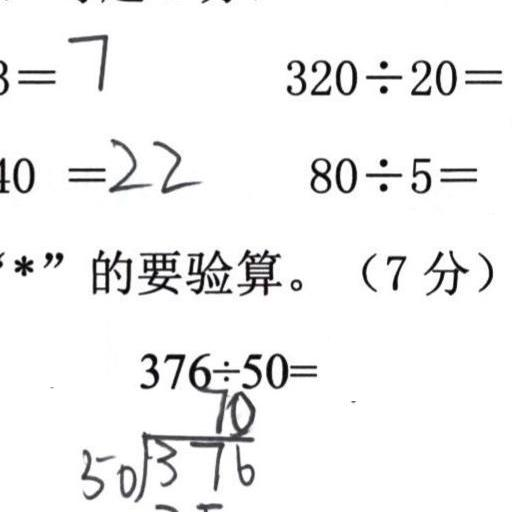ans: (102, 130, 200, 196), (64, 24, 109, 90)
